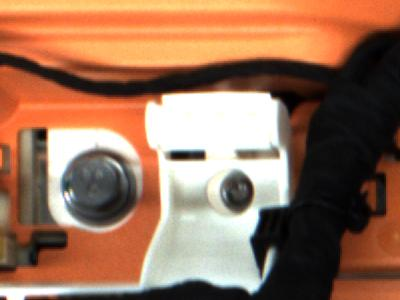nut_b: (53, 146, 144, 230)
